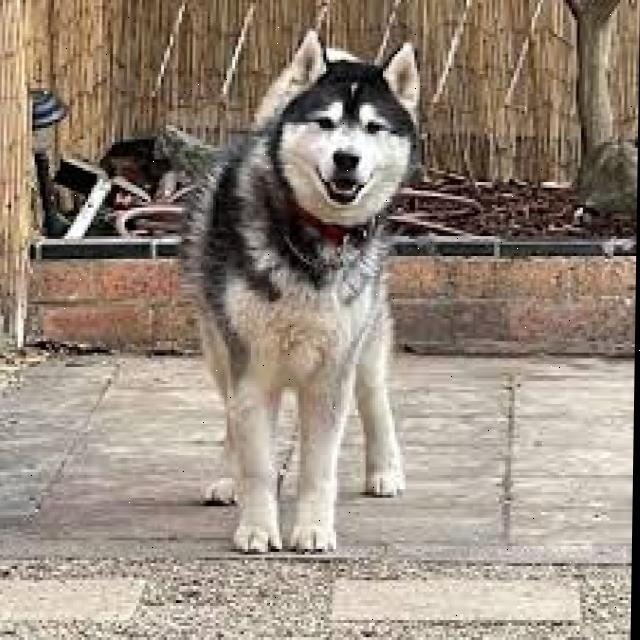ALASKAN_MALAMUTE: (177, 27, 445, 560)
